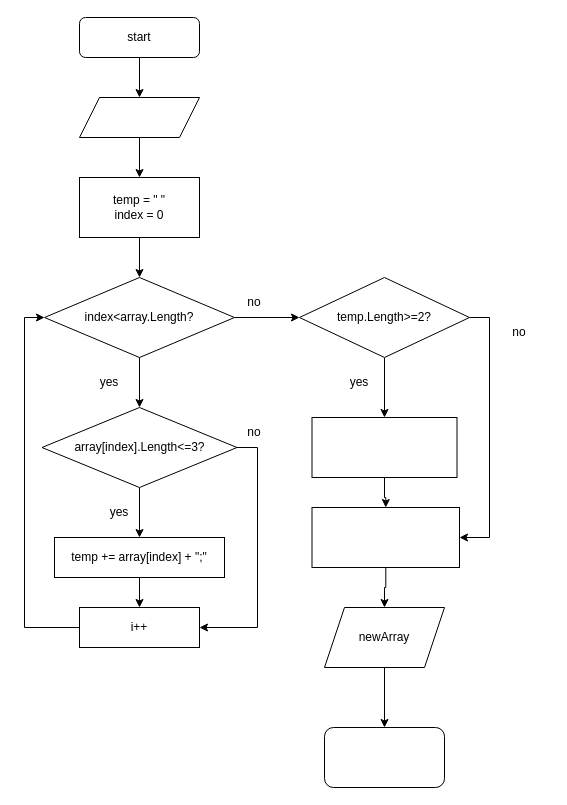
The diagram is 567 pixels wide and 805 high, and some of its shapes have lost their labels. The centre of each missing label's shape, as x and y in pixels:
array[]: pixel 139 117
end: pixel 384 757
newArray = temp.Split(;): pixel 385 537
temp = temp.Length-1: pixel 384 447
